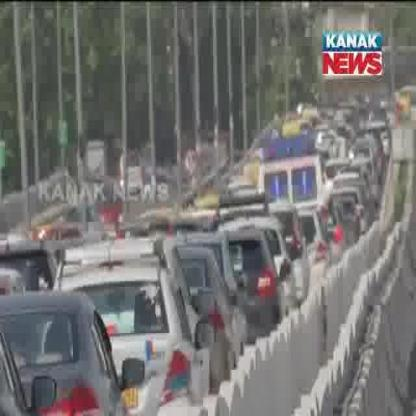priority: (256, 132, 328, 202)
